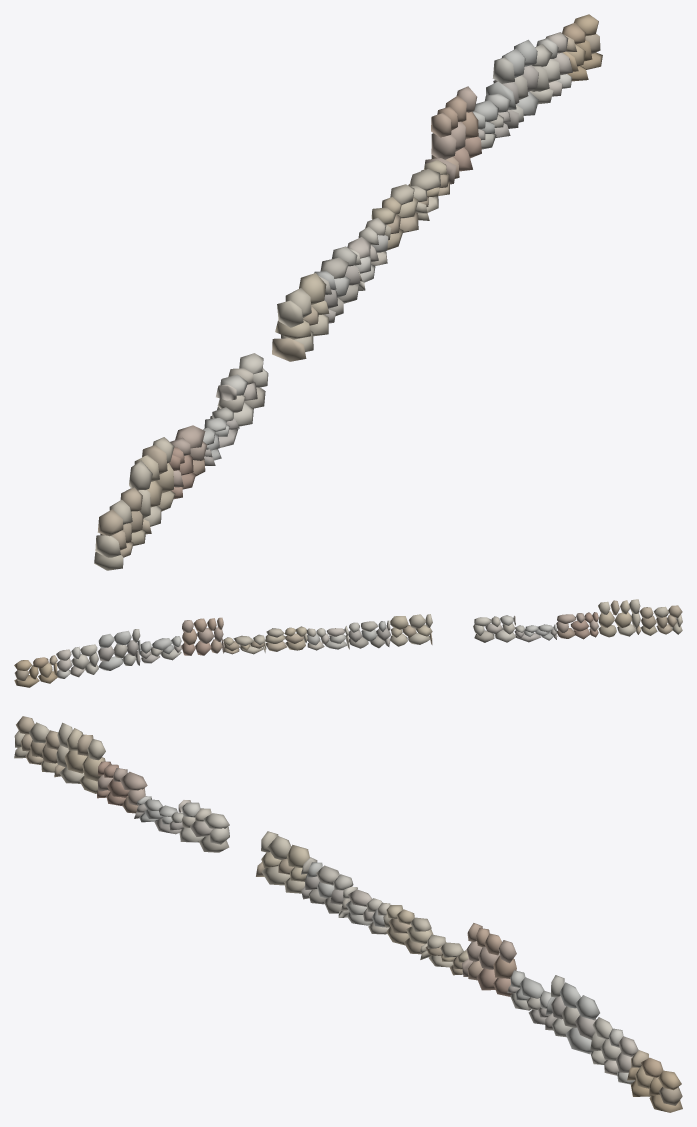
The model's file is farm_0_-1_near.glb.
3 renders of one model, top to bottom at view 1: azimuth 30°, elevation 25°; view 2: azimuth 150°, elevation 25°; view 3: azimuth 270°, elevation 25°, orthographic. The views are drawn at different scales.
Visible parts, largest first — view 1: geometry_0; view 2: geometry_0; view 3: geometry_0.
Boxes of the visible parts, x1=… form: geometry_0: x1=94, y1=14, x2=602, y2=570; geometry_0: x1=14, y1=599, x2=682, y2=687; geometry_0: x1=14, y1=716, x2=682, y2=1112.
Size of the model in its own units: 20.04 by 2.29 by 16.21.
